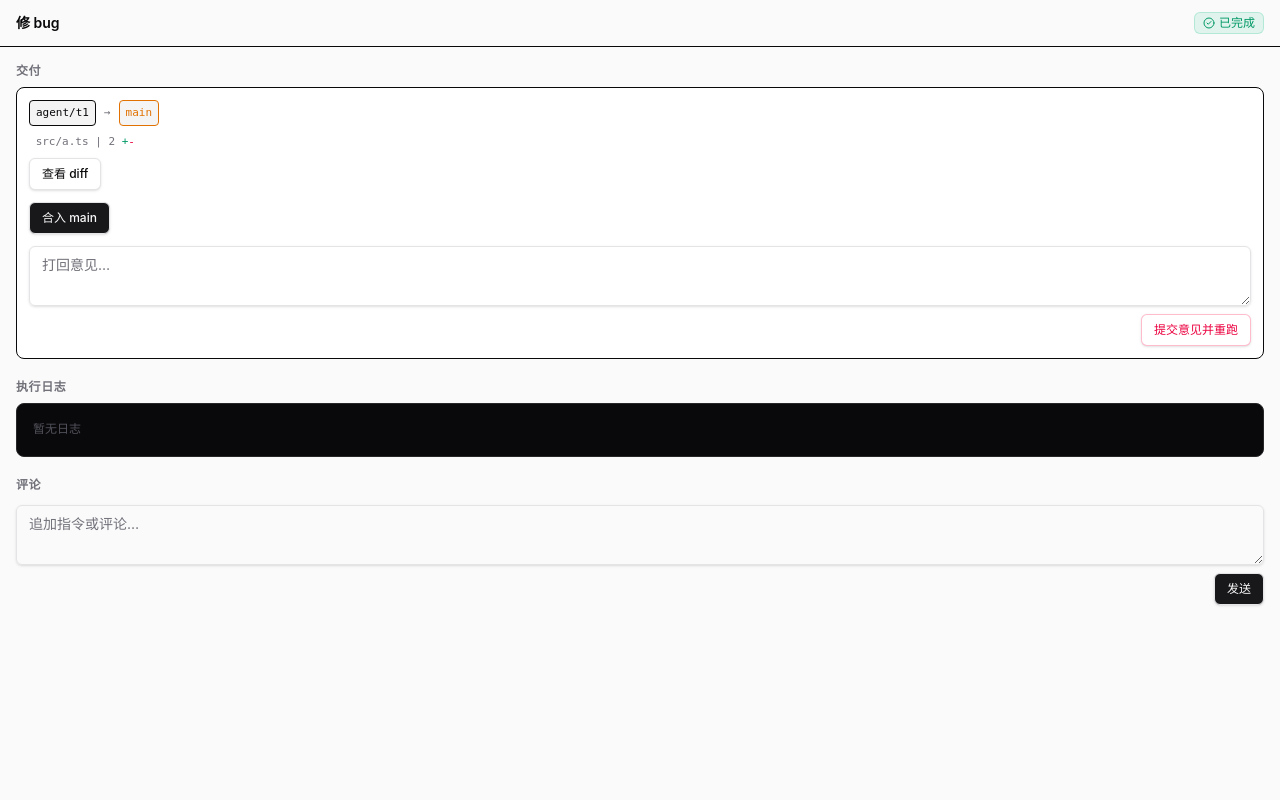
Scenario: TaskPanel › shows merge hint when comment merges into a pending task
The width and height of the screenshot is (1280, 800).
Expected: the heading "修 bug" is shown, [16,14,60,31]
Step 1. Type "继续" into the text box with placeholder "追加指令或评论…" → (640, 534), box [16,504,1264,564]
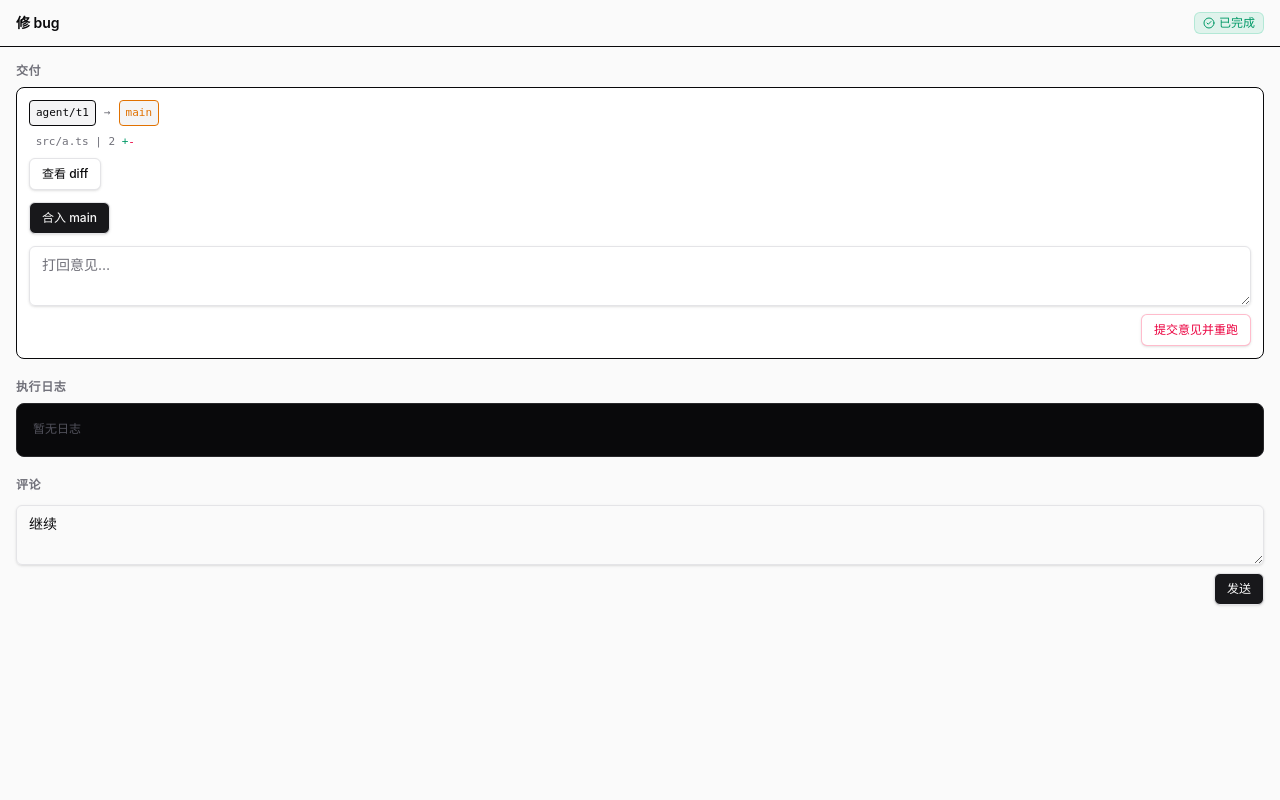
Step 2. Click the button "发送" → (1239, 588), box [1214,572,1264,604]
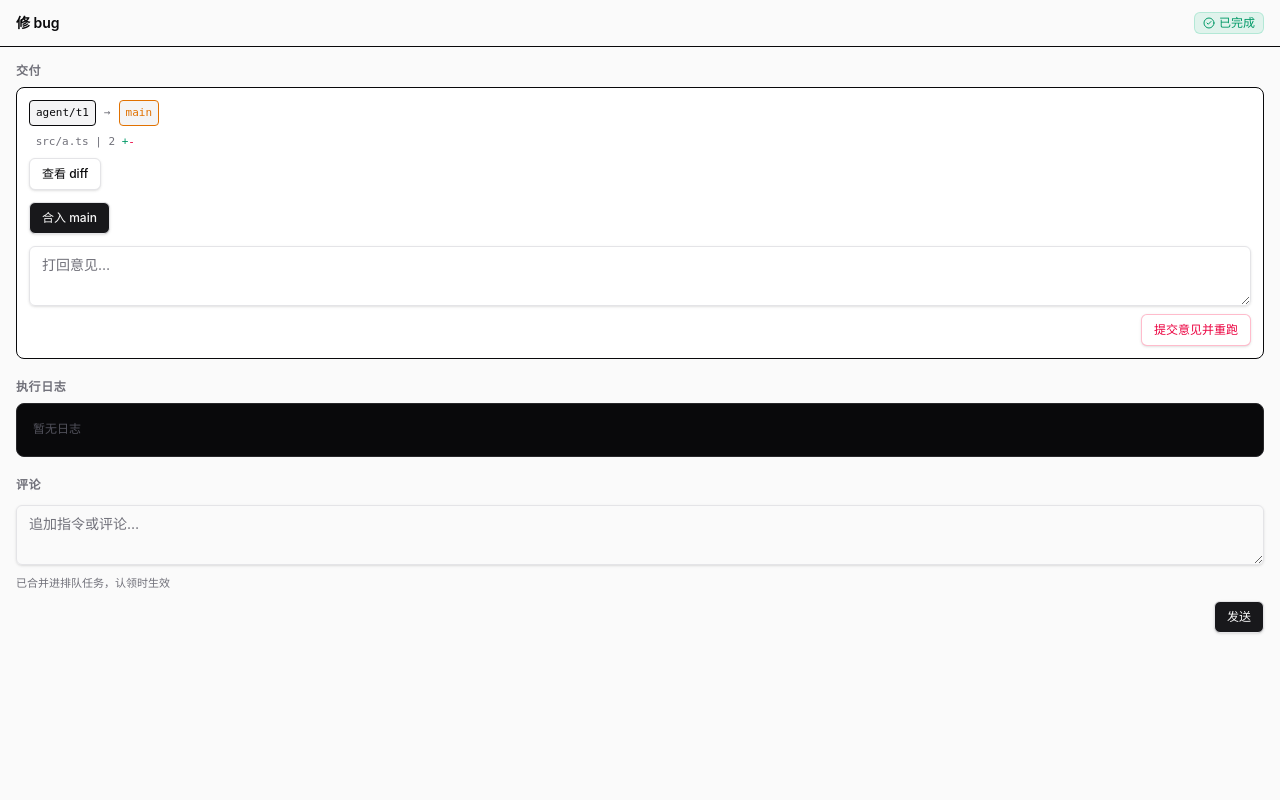
Expected: the text "已合并进排队任务，认领时生效" is shown, [16,576,170,590]
